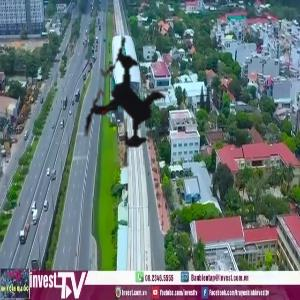drone: (34, 11, 217, 194)
